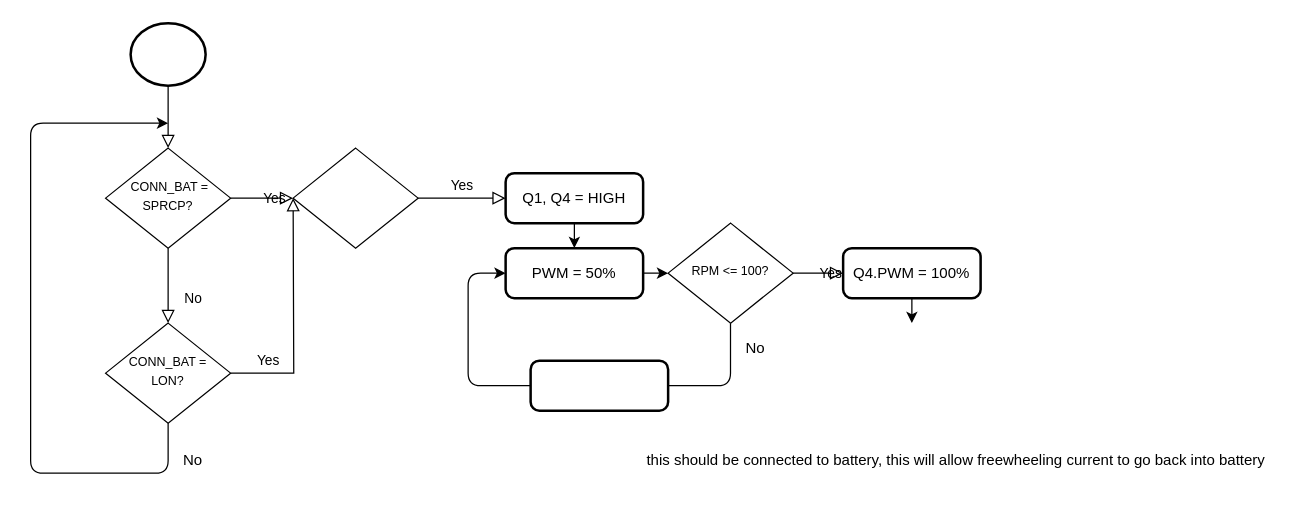
This 1296x505 diagram has some shape labels left out. The box of each missing label's shape, as (x1, y1, x2, y2) in pixels:
Display RPM on OLED: (529, 359, 669, 411)
MTR_BTN = HIGH?: (292, 147, 418, 248)
START: (129, 21, 206, 86)
